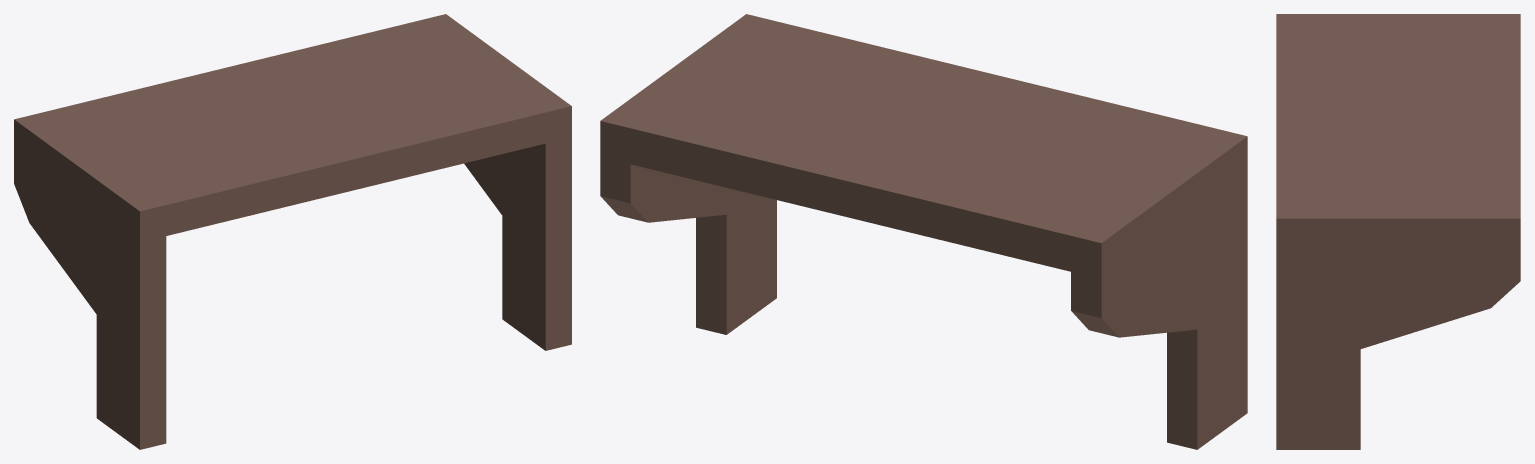
The model's file is table.glb.
3 views of the same model, side by side, from view 1: azimuth 30°, elevation 25°; view 2: azimuth 150°, elevation 25°; view 3: azimuth 270°, elevation 25° (orthographic). The views are drawn at different scales.
Visible parts, largest first — view 1: Table; view 2: Table; view 3: Table.
Part boxes in pixels (<box>): Table: <box>14,14,571,449</box>; Table: <box>600,14,1247,449</box>; Table: <box>1276,14,1520,449</box>.
Bounding box in the file's own units: 6.08 × 3.21 × 3.07.
